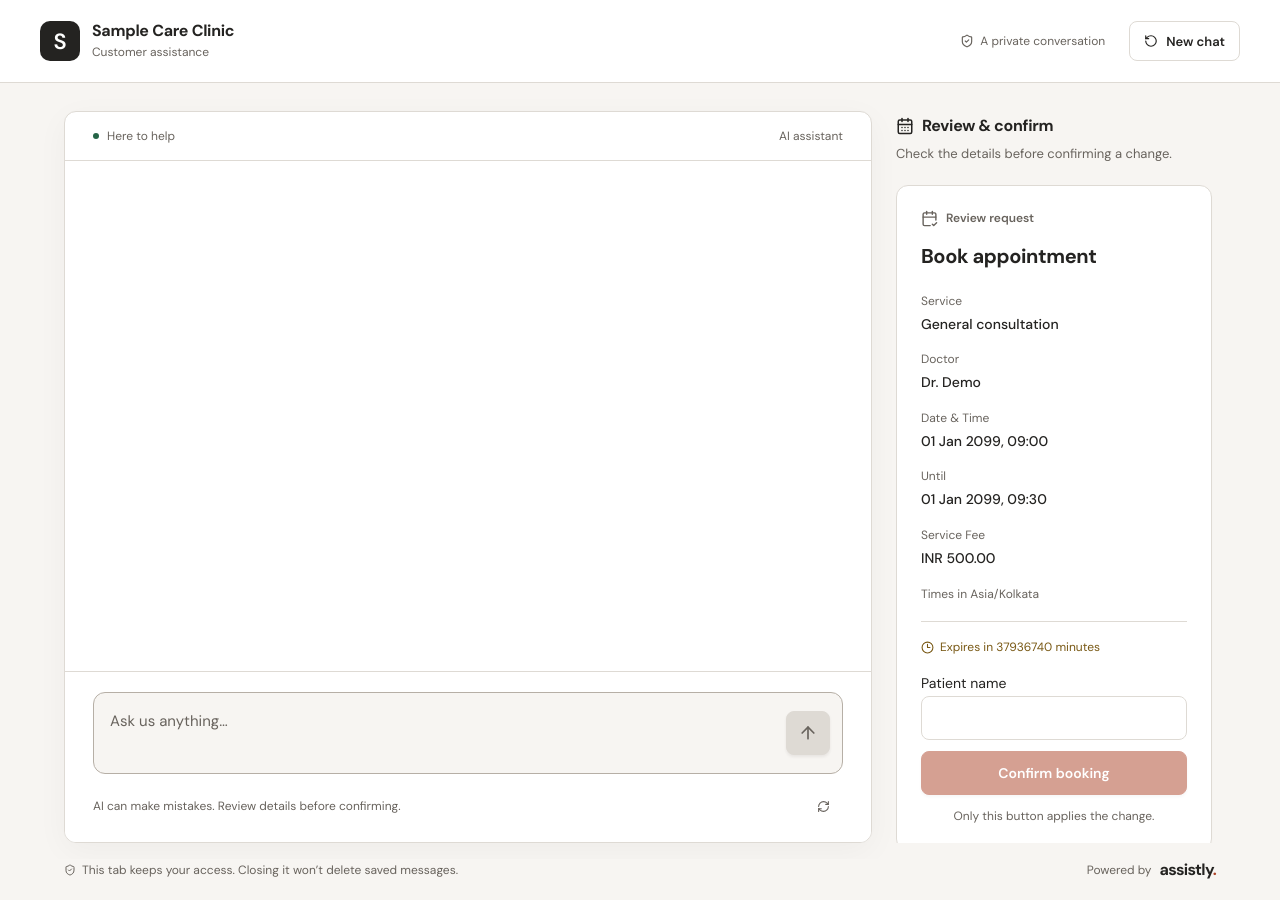
Scenario: public customer chat › checks authoritative outcome after a lost confirmation without making another booking
Step 1. Type "Maya Demo" into the field labelled "Patient name" → (1054, 718), box [921,696,1187,740]
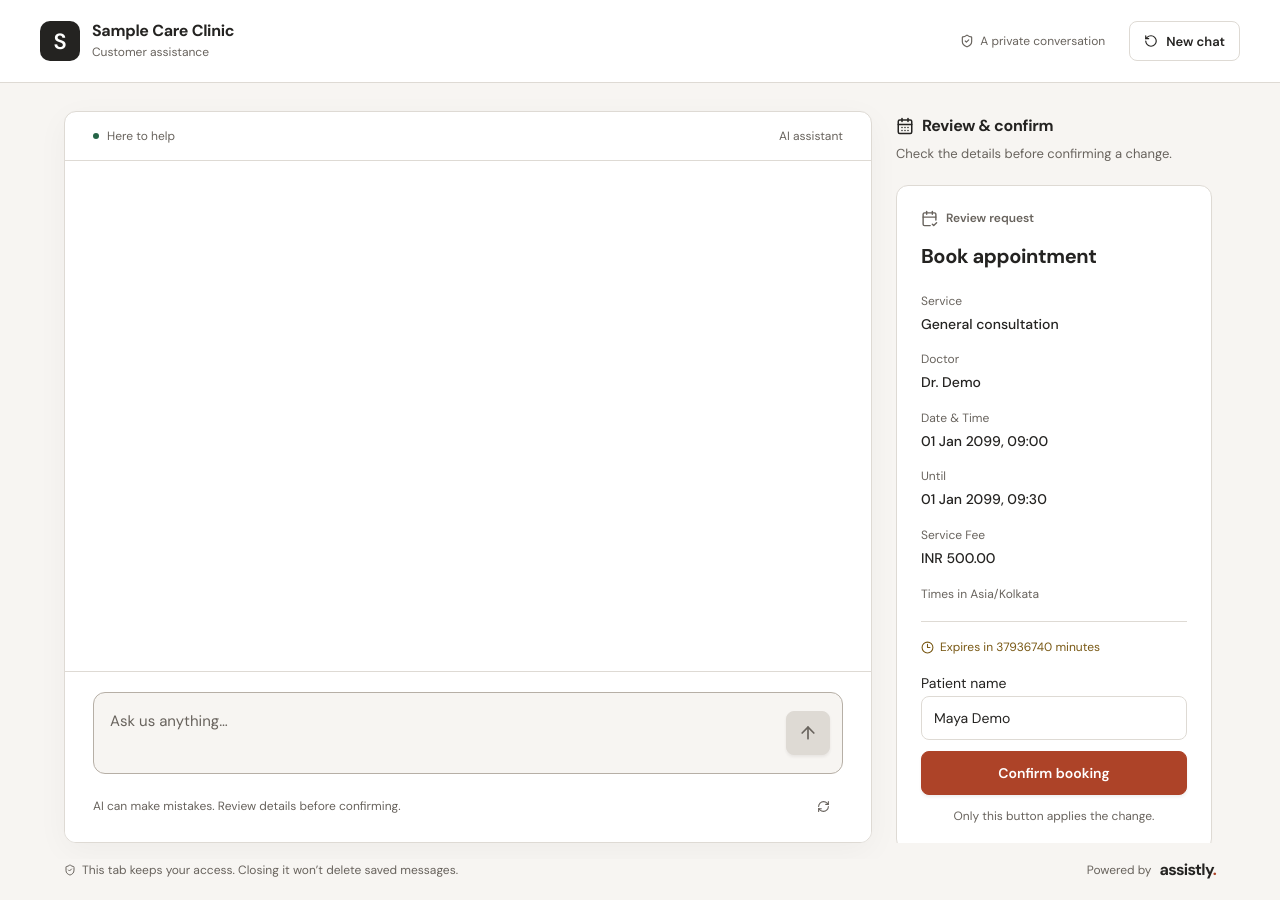
Step 2. Click the button "Confirm booking" → (1054, 773), box [921,751,1187,795]
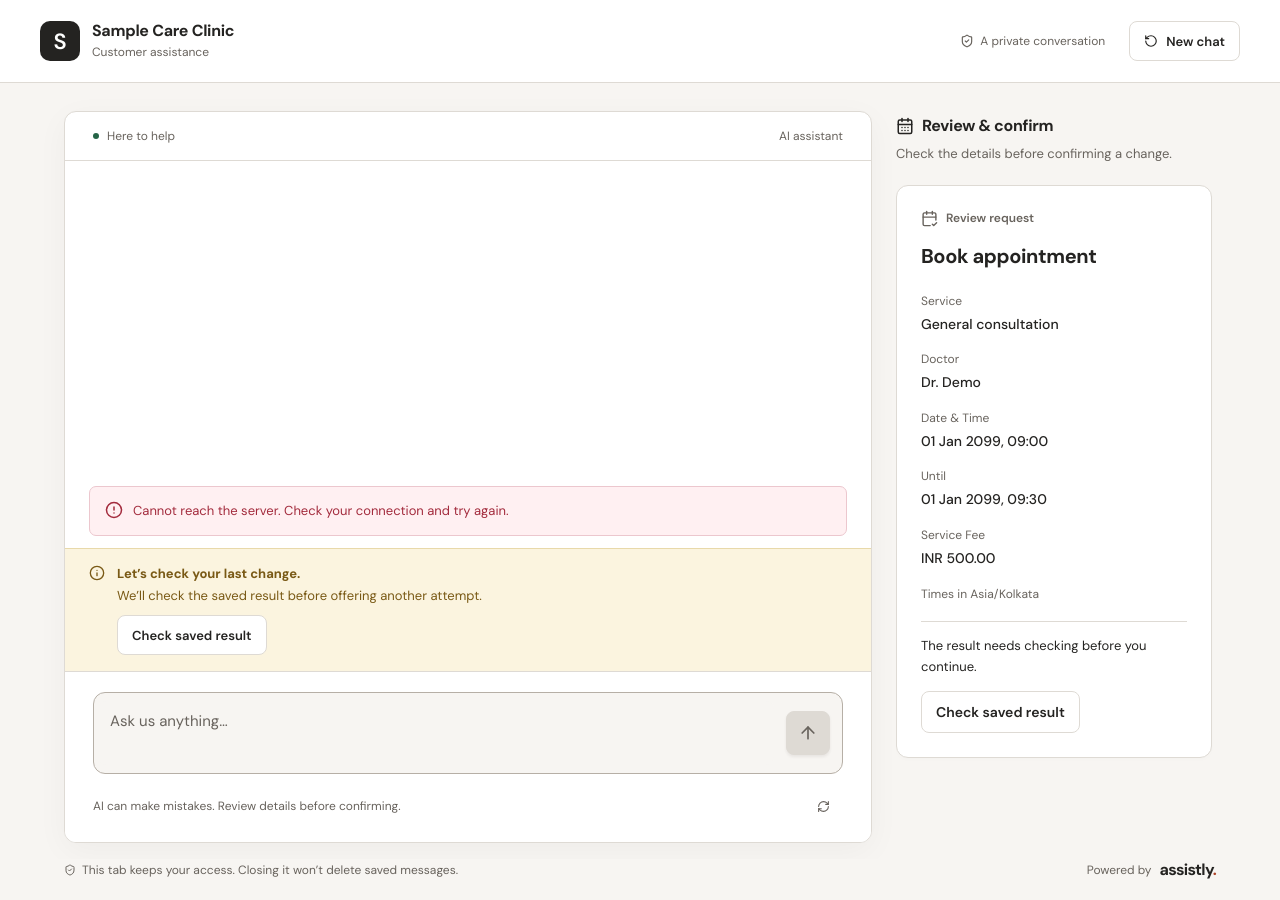
Check: the button "Check saved result" below "Let’s check your last change." is shown
Step 3. Click the button "Check saved result" below "Let’s check your last change." → (192, 635), box [117,615,267,655]
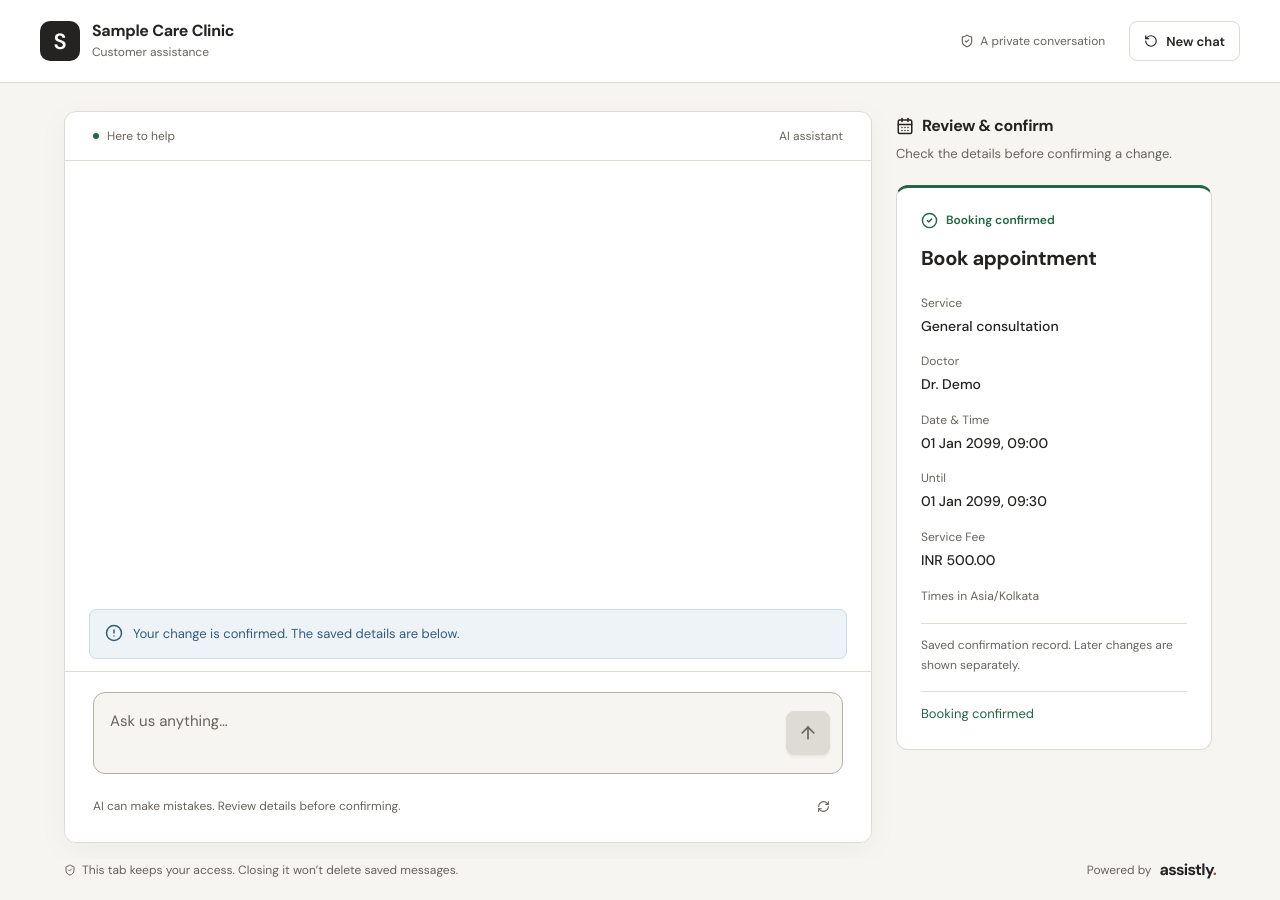
Check: the button "Check saved result" is gone
